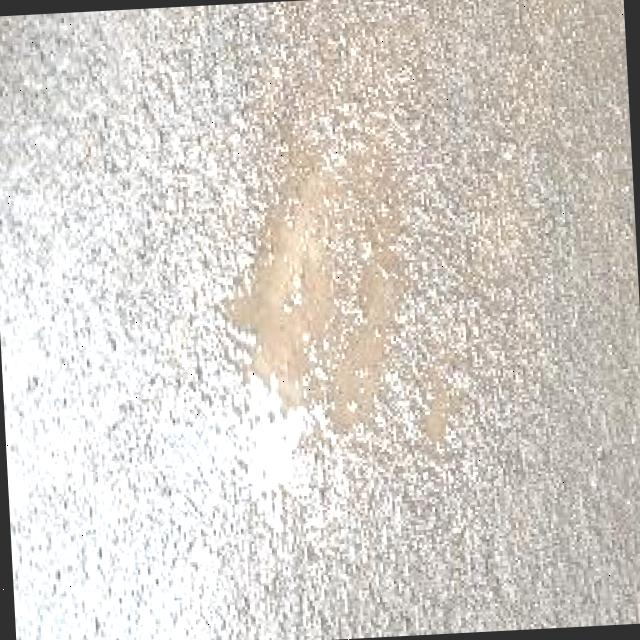waterlogging: (170, 92, 480, 464)
